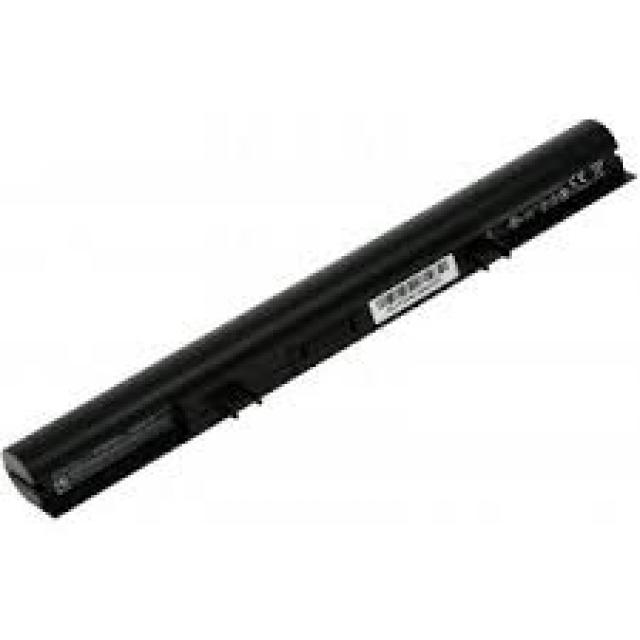non-organic waste: (0, 119, 640, 515)
